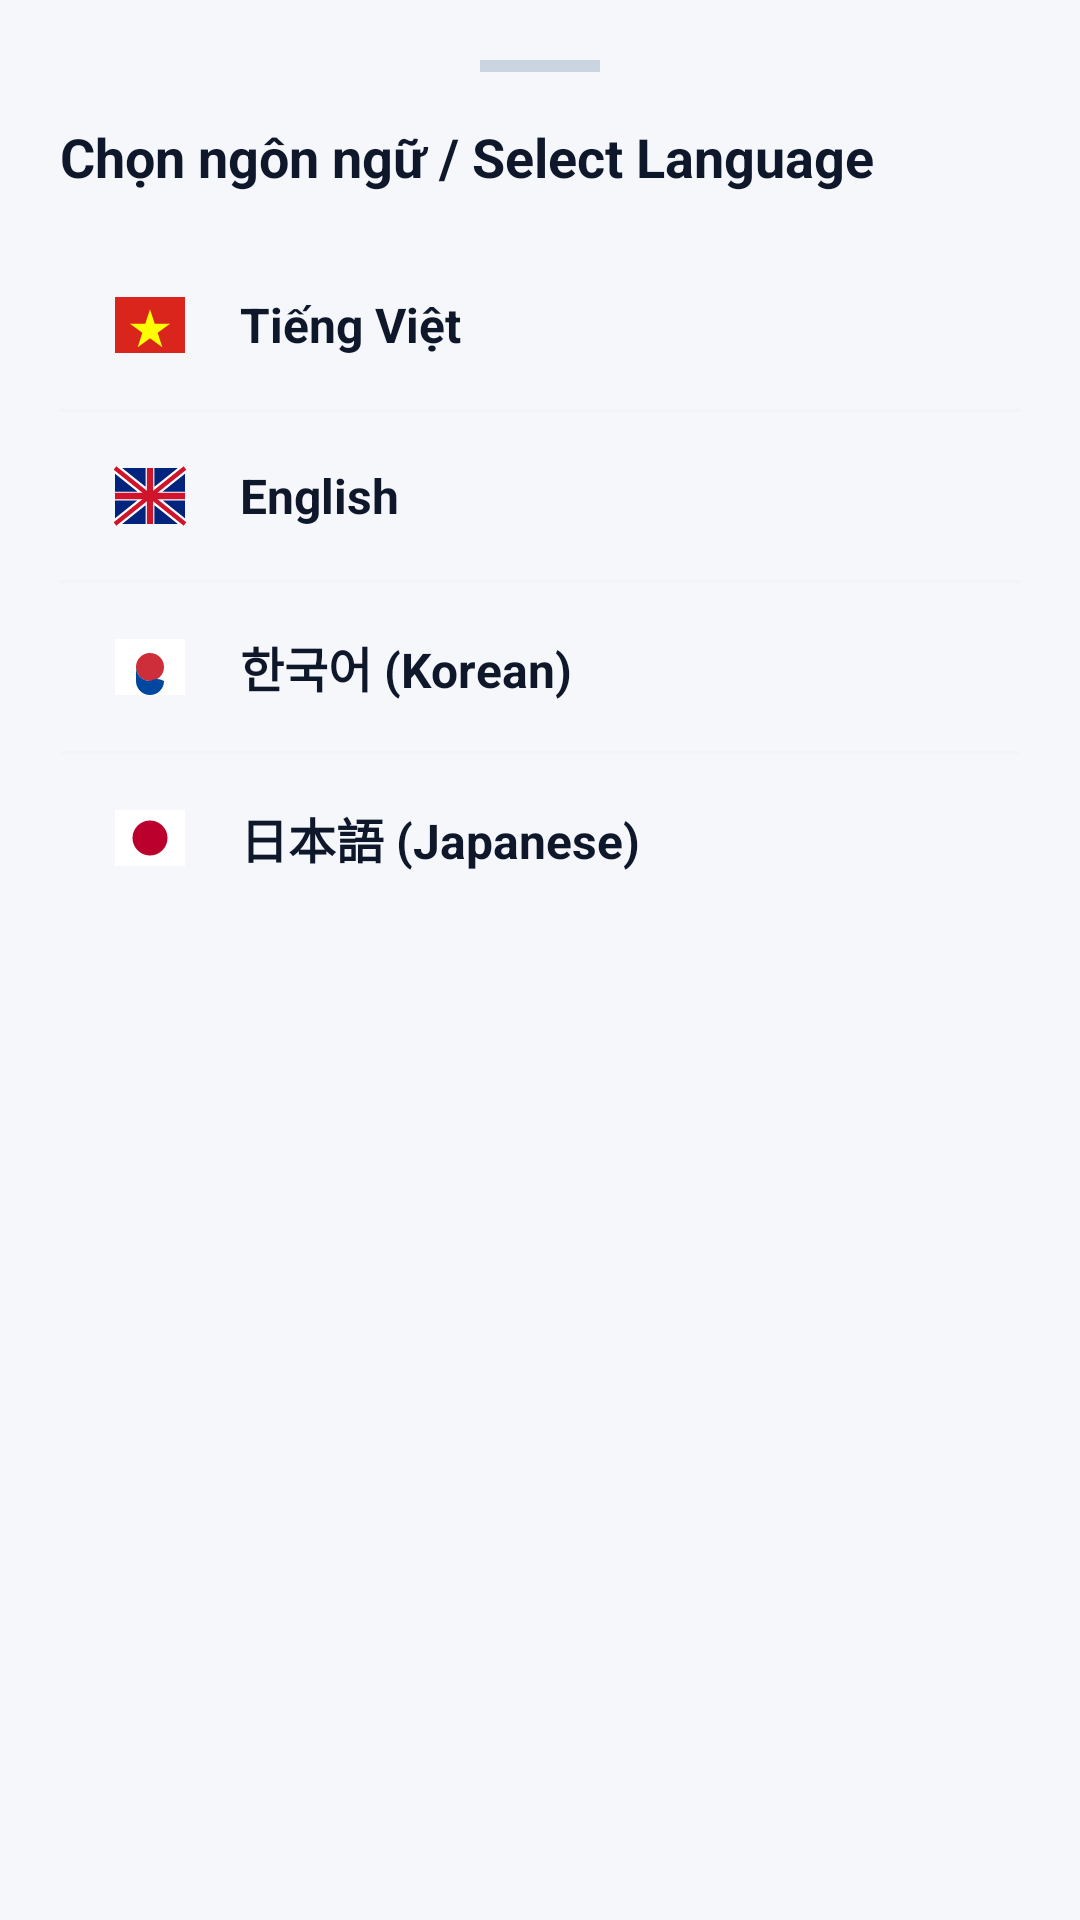

Icons on this 1080px x 1920px Android screen, each with its box as [left=x1, top=y1, right=x2, bottom=y2]:
flag en: [left=114, top=466, right=186, bottom=526]
flag ja: [left=132, top=820, right=168, bottom=856]
flag vi: [left=115, top=297, right=185, bottom=353]
